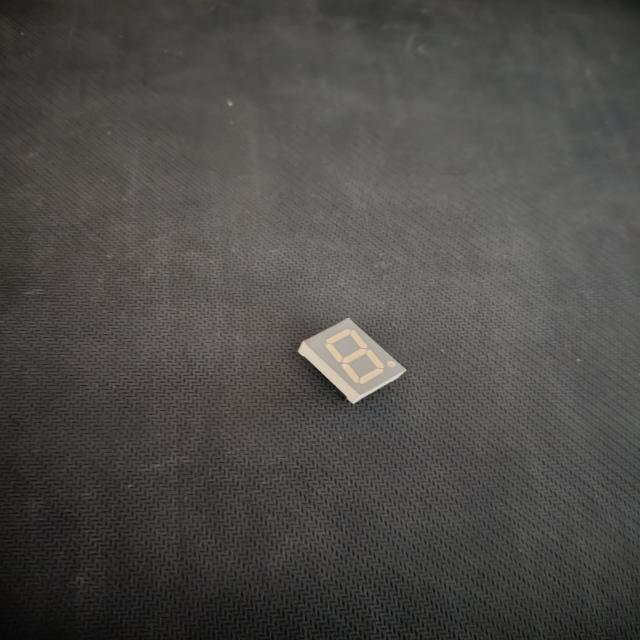sevensegment: (290, 305, 409, 415)
